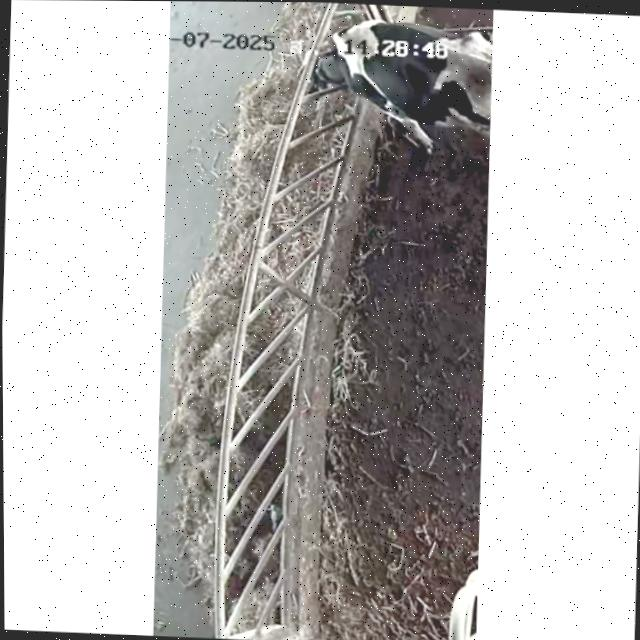eat: (251, 8, 412, 131)
